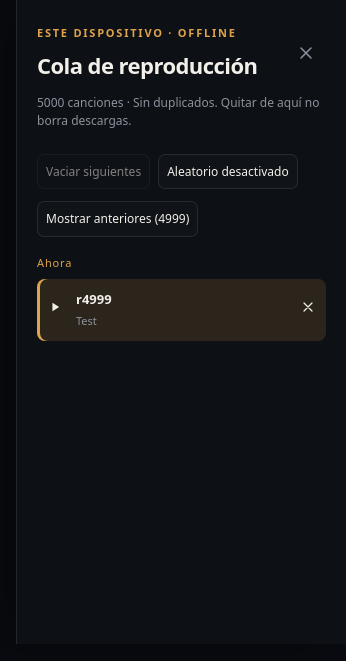
Scenario: all history stays accessible in bounded pages without mixing it with upcoming
This screenshot has width=346, height=661.
Step 1. Click the button "Mostrar anteriores (4999)" → x=118, y=219, box [37,201,198,237]
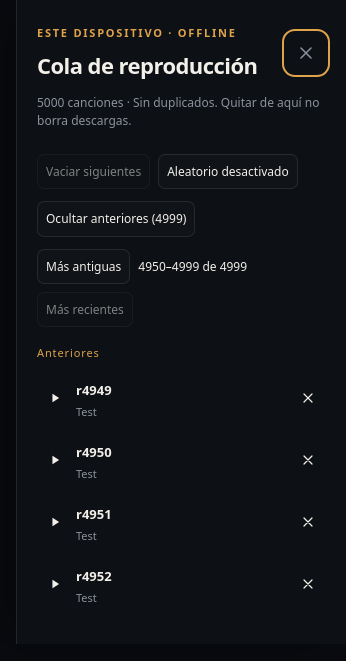
expect the text "4950–4999 de 4999" is shown: met, box [138,258,247,275]
expect the button "Más antiguas" is shown: met
Step 2. Click the button "Más antiguas" → x=84, y=266, box [37,249,130,284]
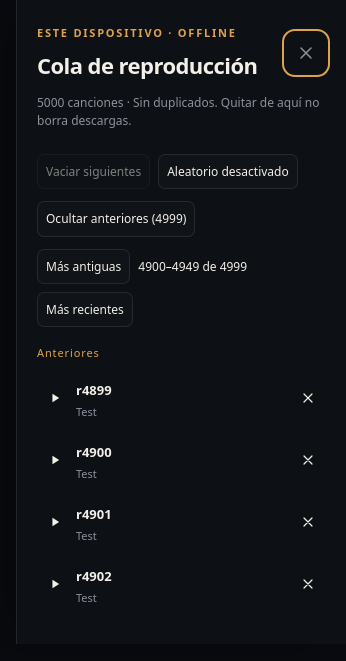
expect the text "4900–4949 de 4999" is shown: met, box [138,258,247,275]
